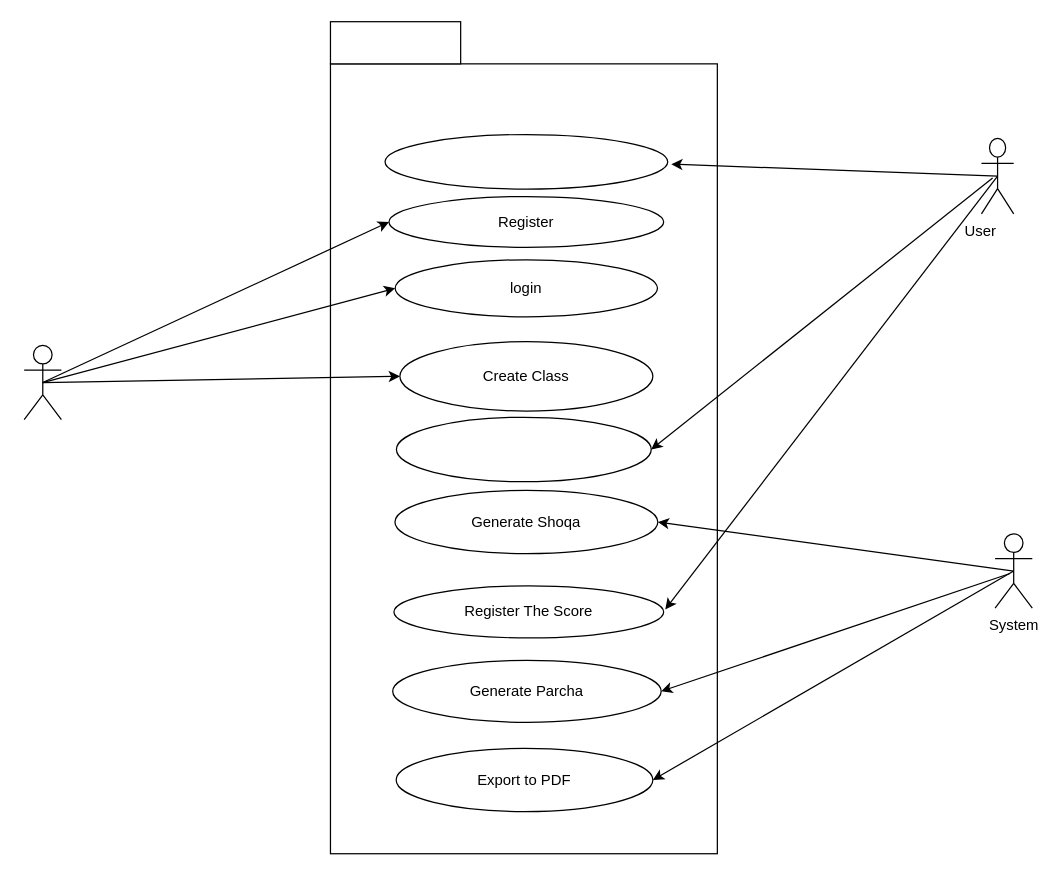
This 1060x875 diagram has some shape labels left out. Here are the shapes that lost their labels. From the top down, the centre of each, then its label:
At point 395,42: "API School".
At point 526,161: "Create Project".
At point 42,382: "Admin".
At point 523,449: "Register The Student".
